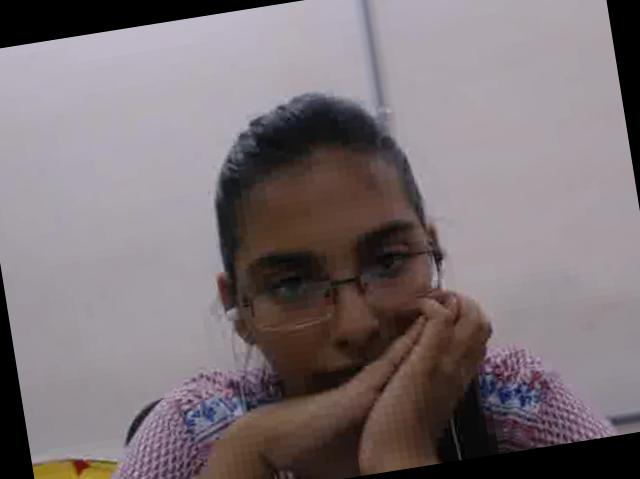bosan: (212, 139, 467, 445)
